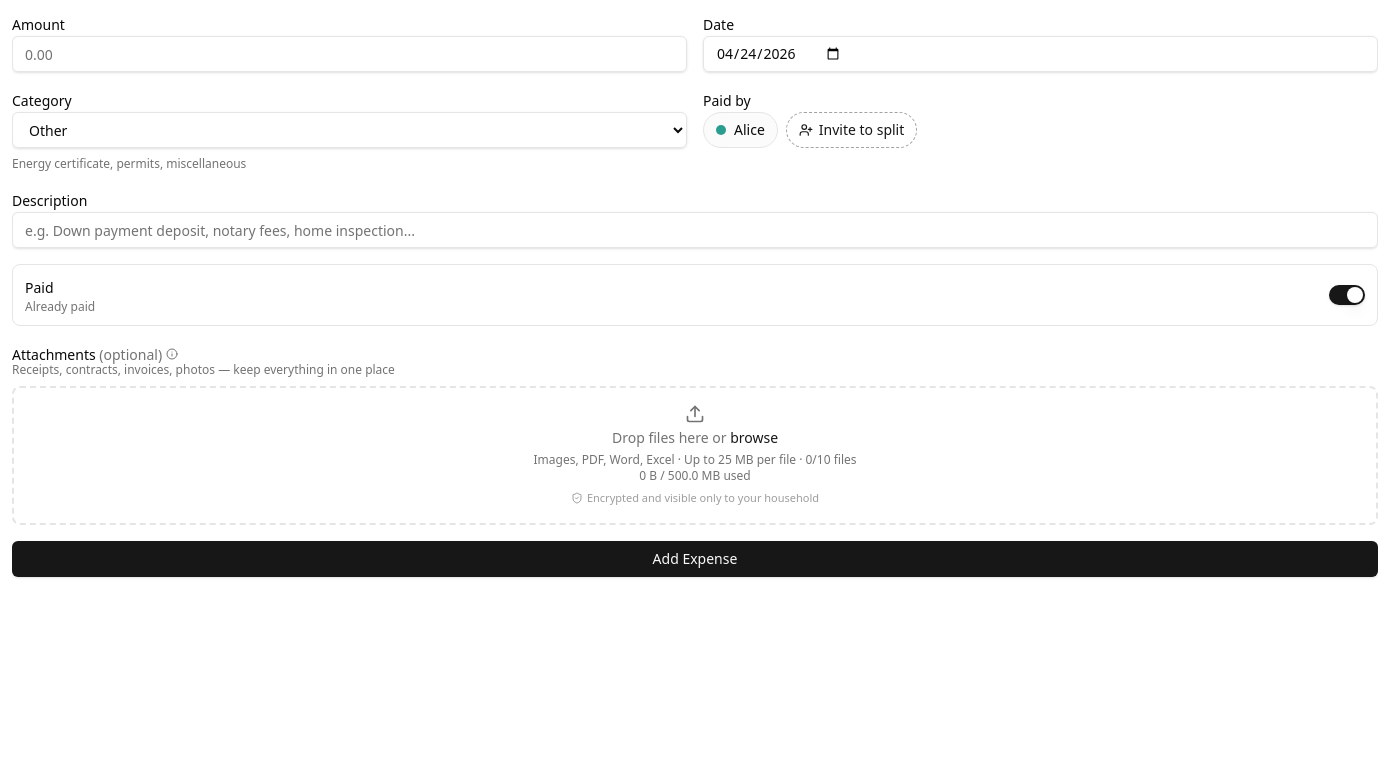
Test case: ExpenseForm payer behavior › single-member household › clicking the chip toggles an inline panel, not a modal
This screenshot has width=1390, height=780.
Click the button "Invite to split" at x=852, y=130, box x1=786 y1=112 x2=917 y2=148
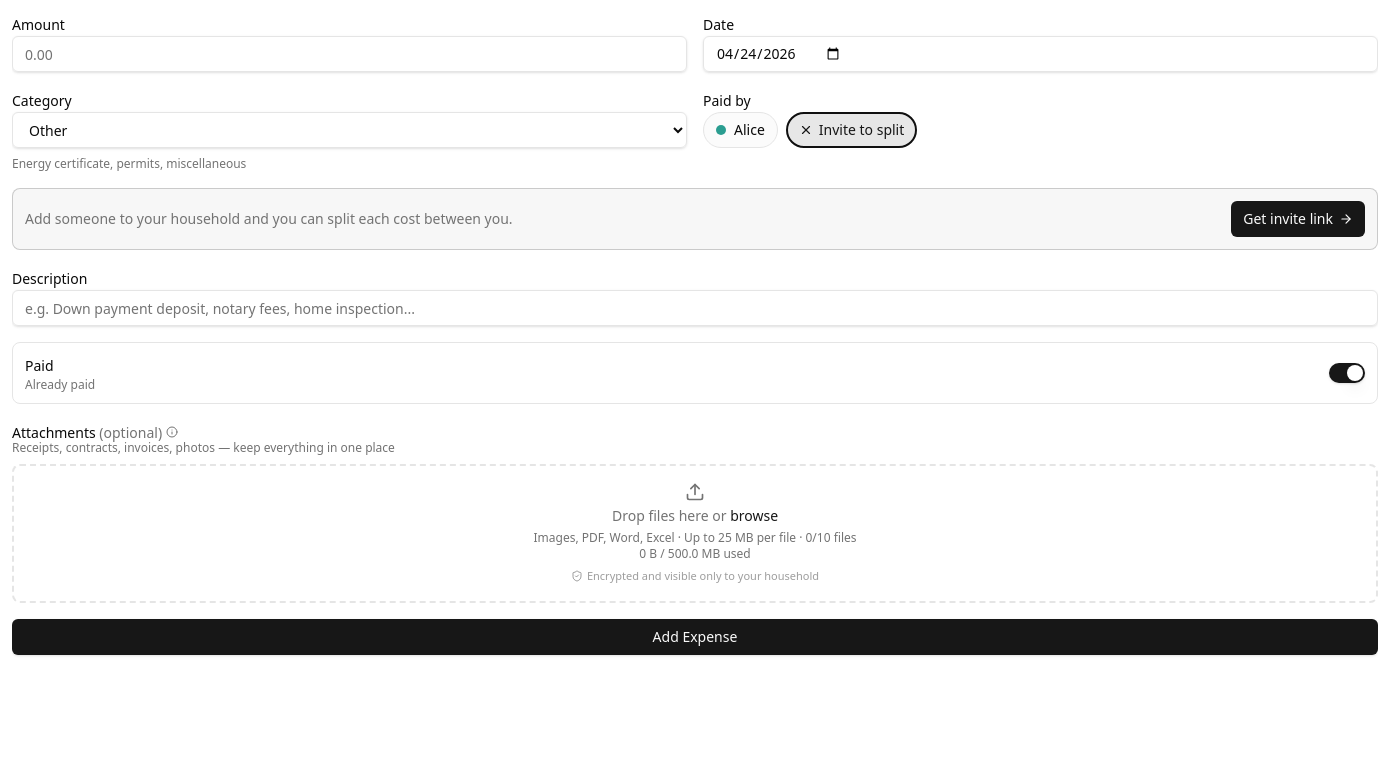
Result: the button "Invite to split" is expanded at x1=786 y1=112 x2=917 y2=148
Result: the text "Add someone to your household" is shown at x1=25 y1=209 x2=513 y2=228
